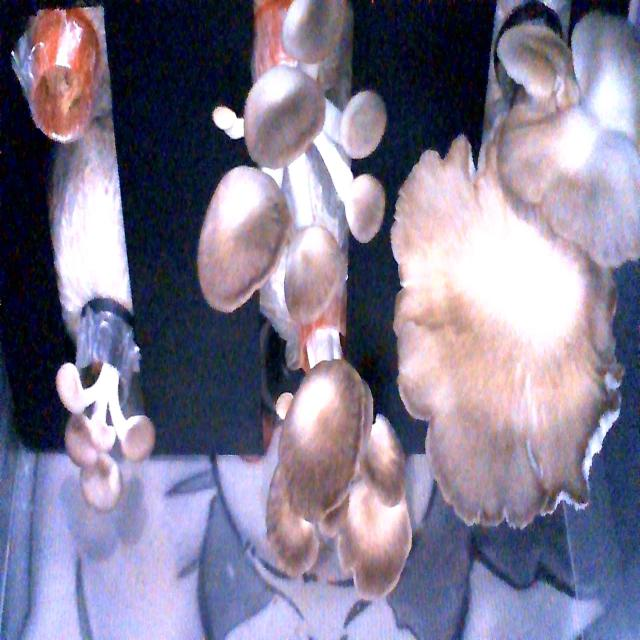big: (369, 34, 640, 531), (197, 11, 398, 333), (248, 364, 426, 604)
nfound: (25, 43, 107, 160)
small: (29, 317, 172, 538)
